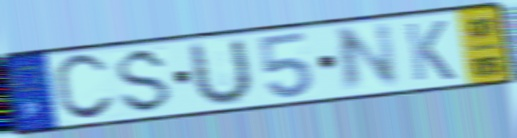5: (255, 29, 317, 101)
C: (51, 51, 119, 124)
K: (401, 18, 458, 84)
N: (334, 20, 403, 97)
S: (116, 46, 175, 116)
U: (188, 35, 256, 110)
